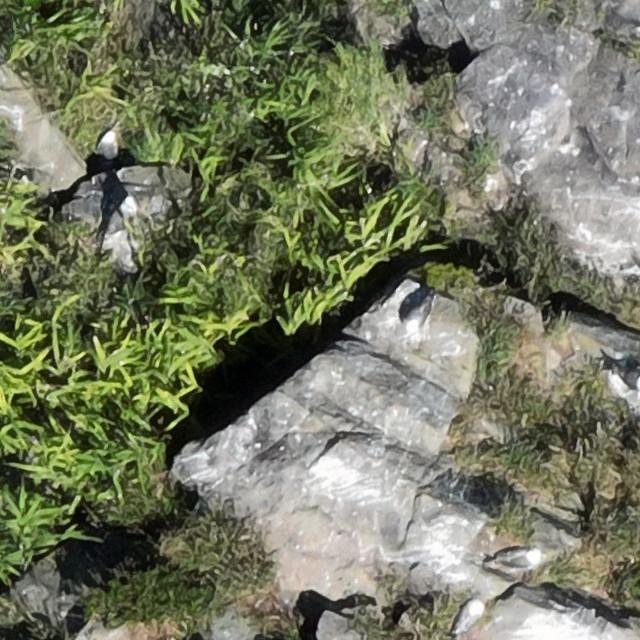umineko: (102, 194, 137, 244), (452, 596, 486, 638), (400, 297, 436, 336), (494, 547, 544, 570), (97, 128, 116, 158), (615, 368, 640, 389)
